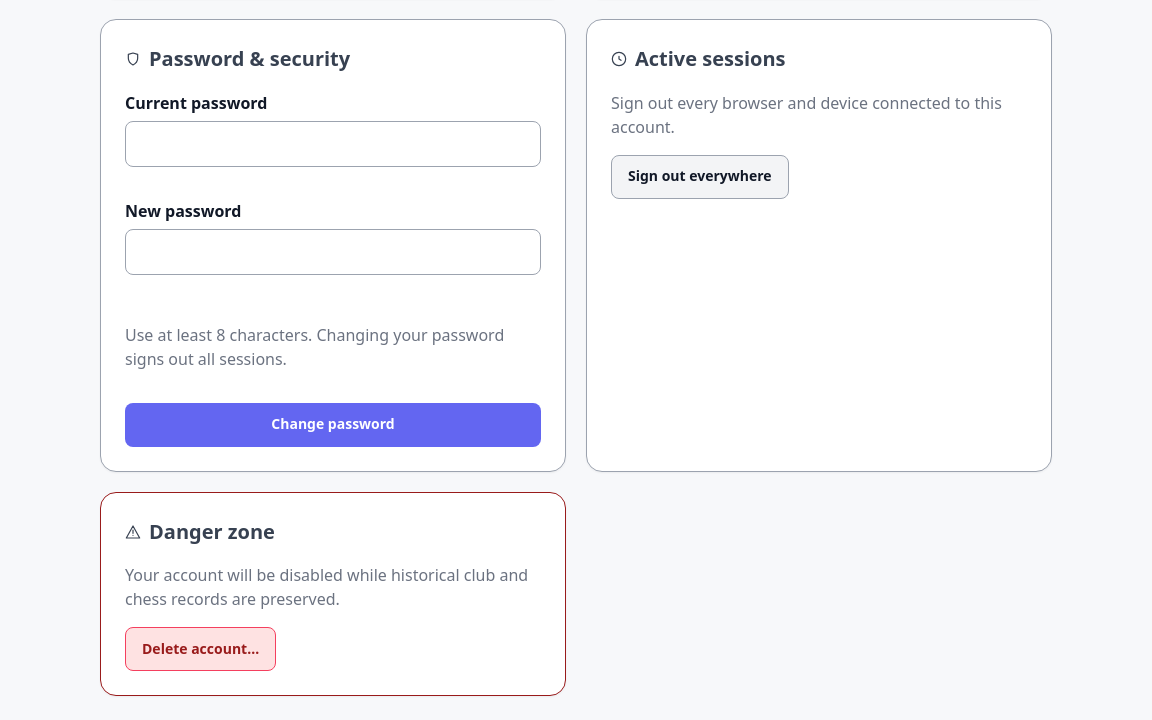
requires a separate deletion confirmation and retains the account when cancelled
(page scrolled)
Click the button "Delete account…".
click(201, 649)  # box [125,627,276,671]
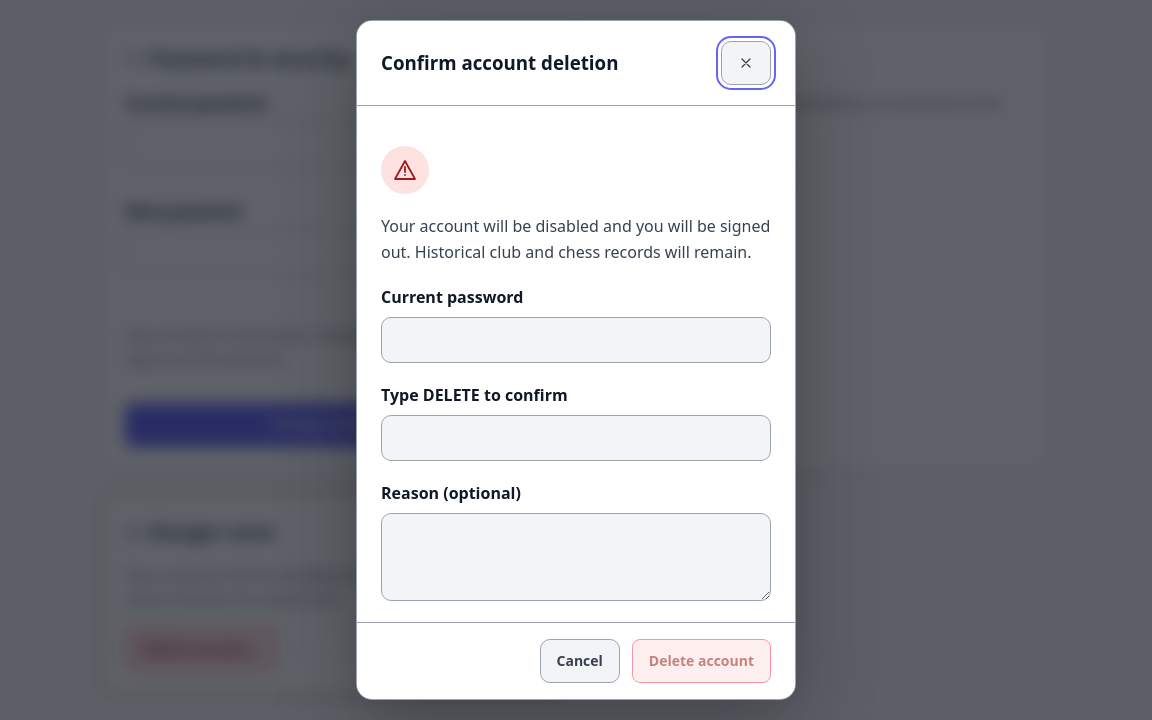
expect the dialog "Confirm account deletion" is shown: met, box [356,20,796,700]
expect the button "Delete account" is disabled: met, box [632,639,771,683]
Type "DELETE" into the field labelled "Type DELETE to confirm".
click(576, 438); type("DELETE")  # box [381,415,771,461]
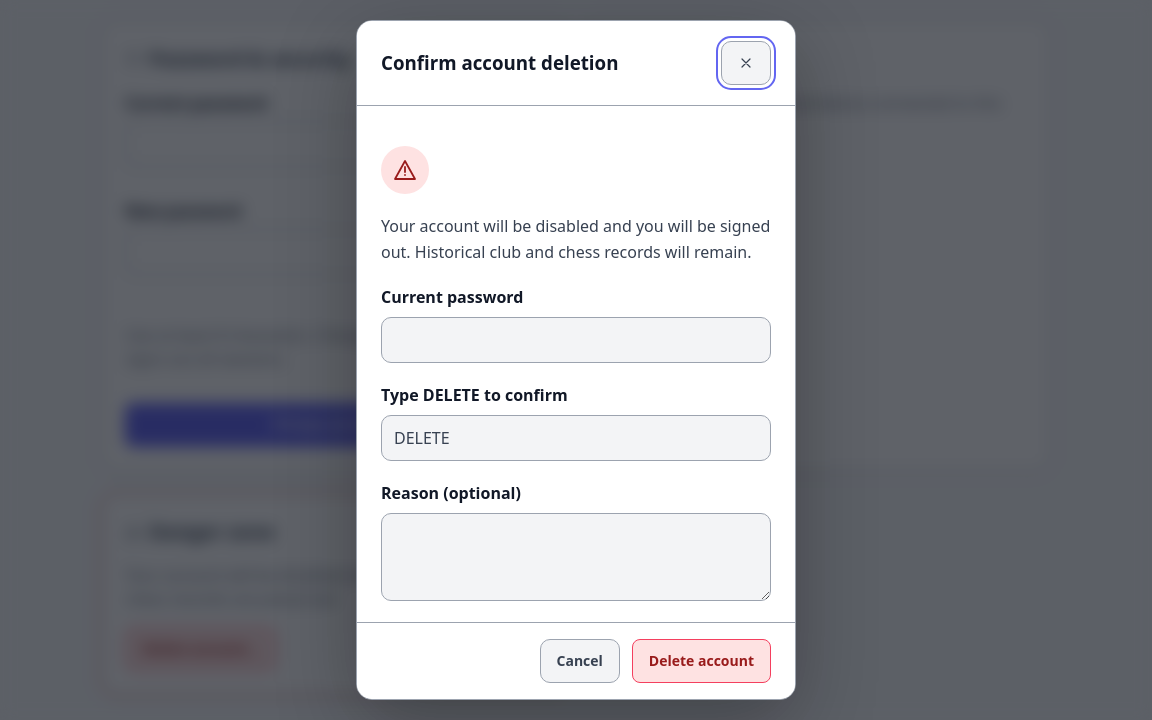
expect the button "Delete account" is enabled: met, box [632,639,771,683]
Click the button named "Close".
click(746, 63)  # box [721,41,771,85]
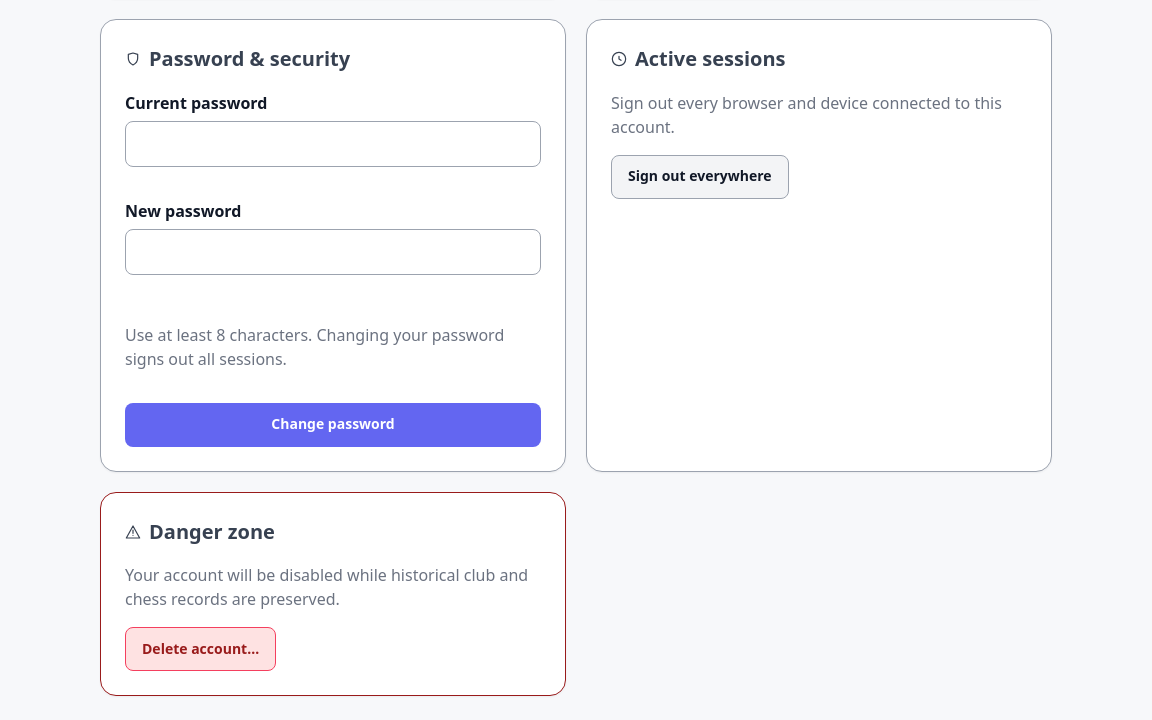
expect the dialog is gone: met
